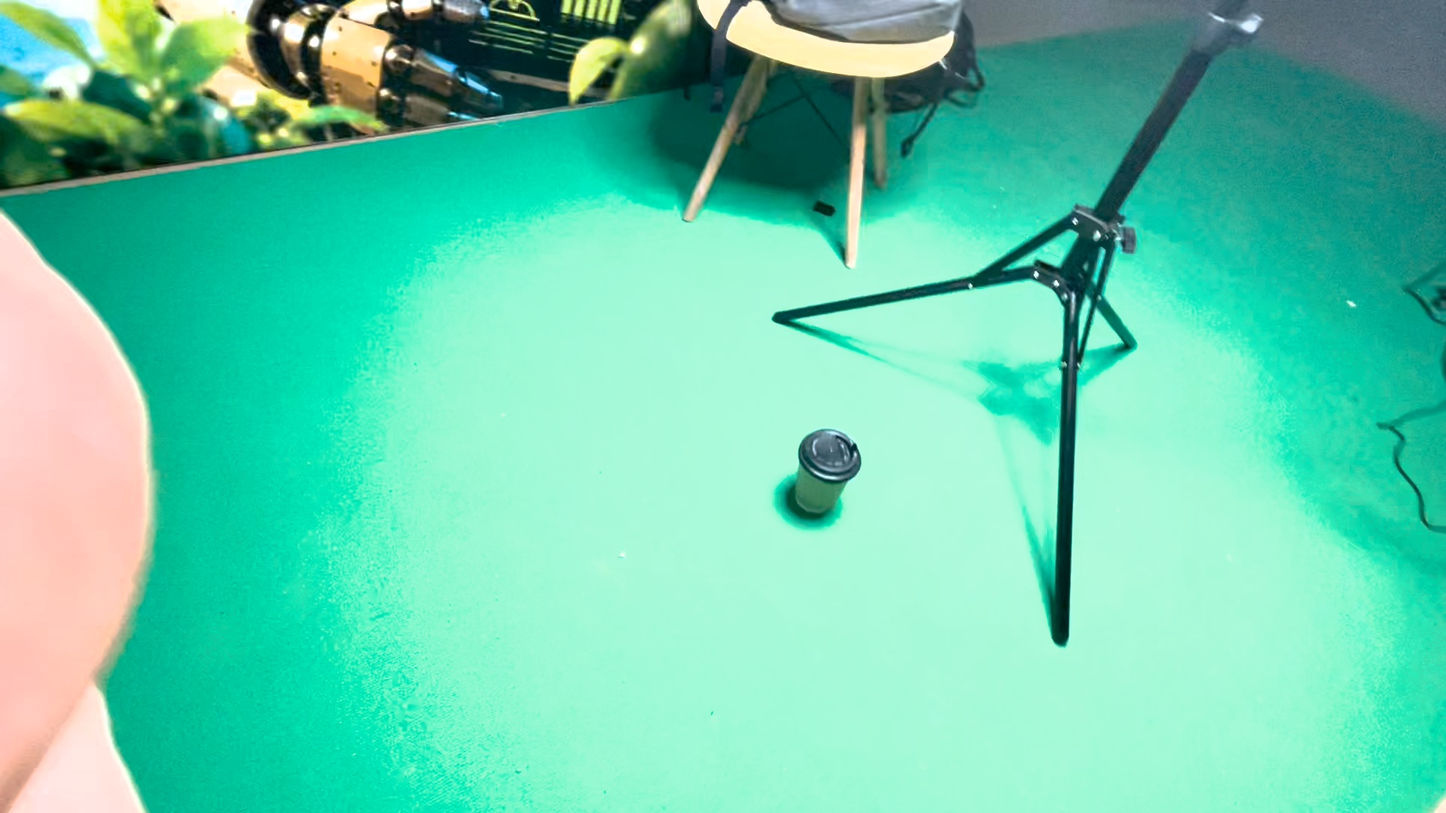cup: (688, 431, 812, 606)
